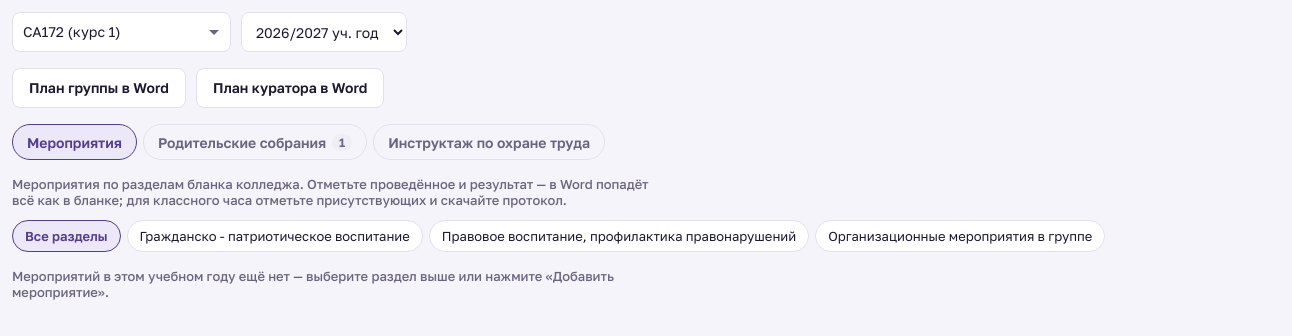
Scenario: PlanPage — план воспитательной работы группы › у собраний только чтение: правки нет, протокол есть; без представителей в досье — подсказка
The image size is (1292, 336).
Click the tab "Родительские собрания 1": [255, 142] box [143, 124, 367, 160]
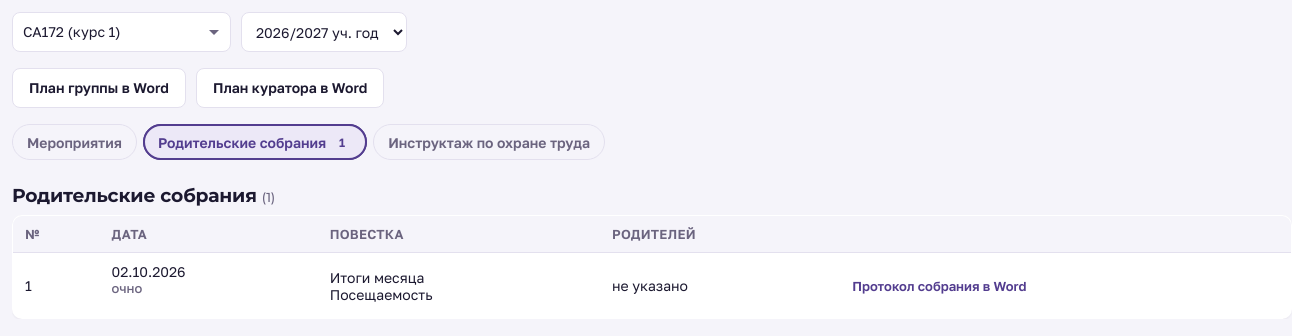
Expected: the text "Итоги месяца Посещаемость" is shown, [318, 252, 600, 318]
Expected: the button "Протокол собрания в Word" is shown, [848, 276, 1031, 296]
